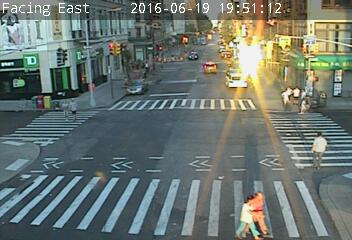neg: (82, 153, 106, 186), (227, 56, 250, 86), (180, 76, 201, 103), (281, 34, 300, 58), (150, 71, 164, 89), (244, 143, 257, 161)
pos: (232, 193, 264, 235), (242, 187, 273, 228), (305, 128, 333, 166), (277, 85, 297, 110), (63, 95, 82, 120), (55, 98, 73, 122), (289, 83, 302, 101), (298, 85, 309, 100)
